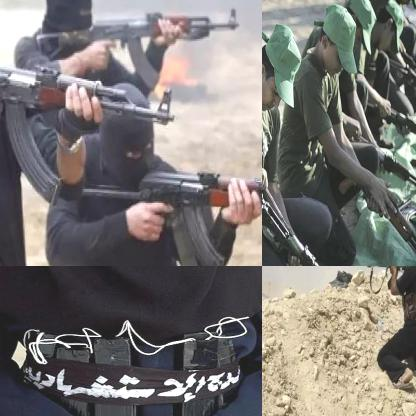rifle: (0, 59, 176, 208), (36, 5, 245, 90), (80, 168, 261, 265), (262, 157, 363, 265), (339, 167, 415, 265), (349, 128, 415, 204), (365, 104, 415, 152), (375, 60, 415, 110), (362, 266, 413, 291)
